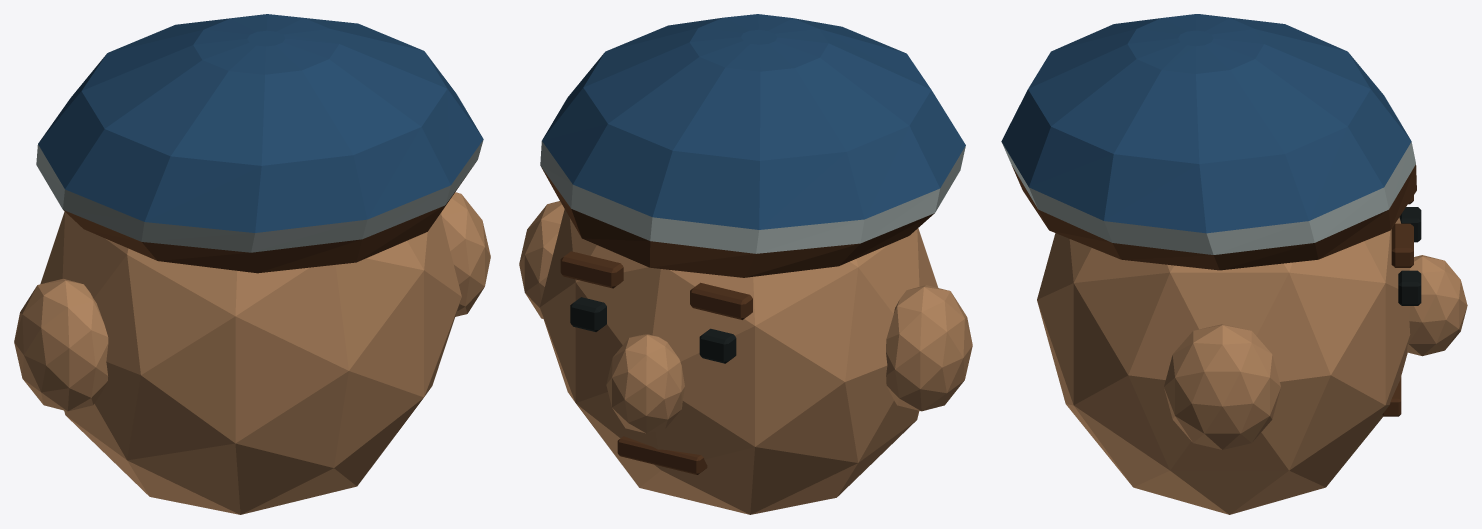
Rendered from RiderHead.glb.
The picture shows the model from 3 angles, left to right: view 1: azimuth 30°, elevation 25°; view 2: azimuth 150°, elevation 25°; view 3: azimuth 270°, elevation 25°; orthographic projection. The views are drawn at different scales.
Visible parts, largest first — view 1: Sculpture; view 2: Sculpture; view 3: Sculpture.
Part boxes in pixels (left/top/right/bottom): Sculpture: left=14, top=14, right=490, bottom=514; Sculpture: left=519, top=14, right=972, bottom=514; Sculpture: left=1001, top=14, right=1467, bottom=514.
Size of the model in its own units: 0.572 by 0.571 by 0.525.
